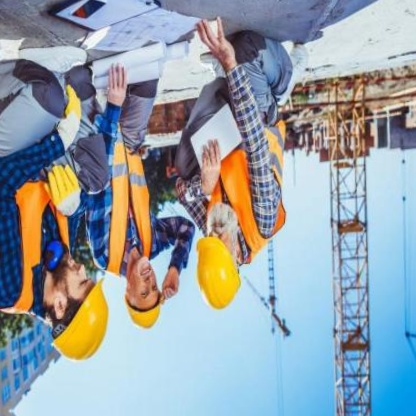vest: (0, 139, 87, 324), (201, 112, 293, 274), (90, 122, 167, 282)
yellow: (49, 268, 114, 369), (192, 233, 246, 315), (121, 286, 167, 334)
